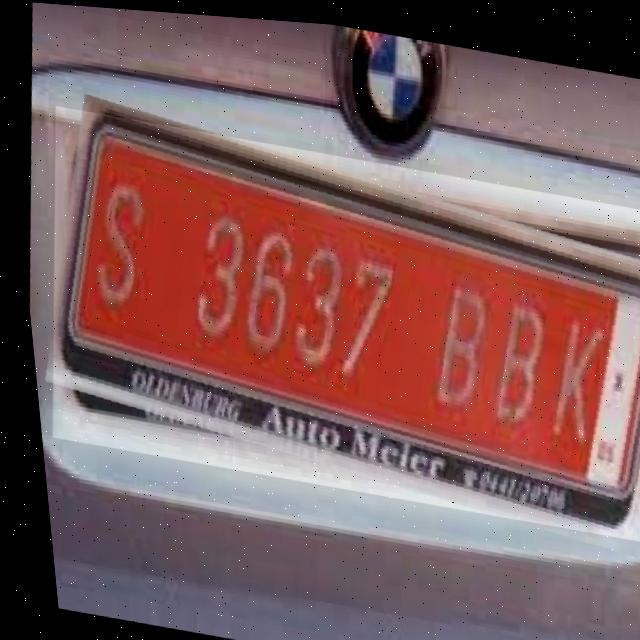LicensePlate: (18, 103, 640, 537), (625, 260, 640, 517)
